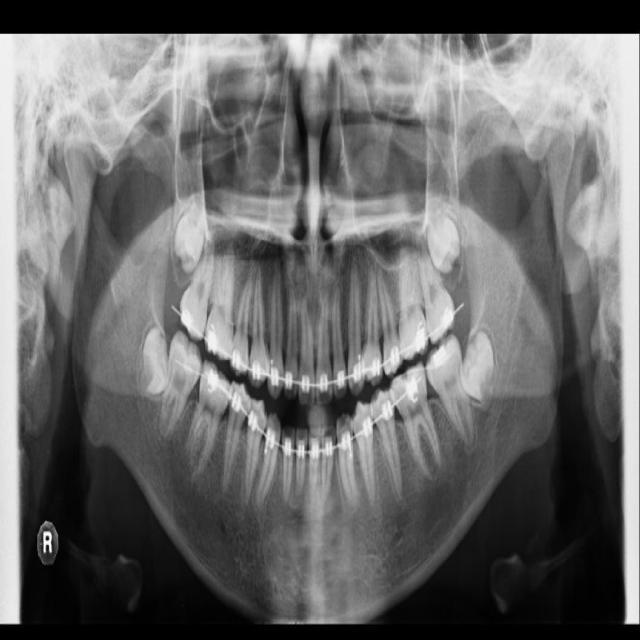3M ESPE Implant: (172, 192, 207, 274)
73: (594, 578, 600, 597)
BioHorizons Implant: (411, 215, 460, 348)
BioLife Implant: (418, 194, 467, 277)
Biomet 3i Implant: (451, 328, 512, 408)
Blue Sky Bio Implant: (420, 332, 478, 454)
Caries: (174, 221, 221, 344)
Implant: (156, 329, 208, 447)
Keystone Dental Implant: (132, 325, 177, 398)
